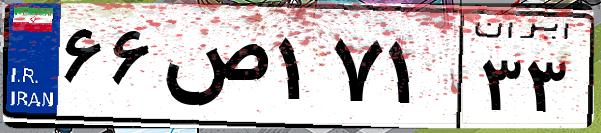1: (270, 28, 330, 110), (385, 28, 445, 110)
3: (475, 38, 525, 113), (525, 38, 570, 115)
6: (57, 26, 110, 100), (110, 28, 158, 98)
7: (330, 28, 385, 110)
ص: (158, 20, 270, 120)
